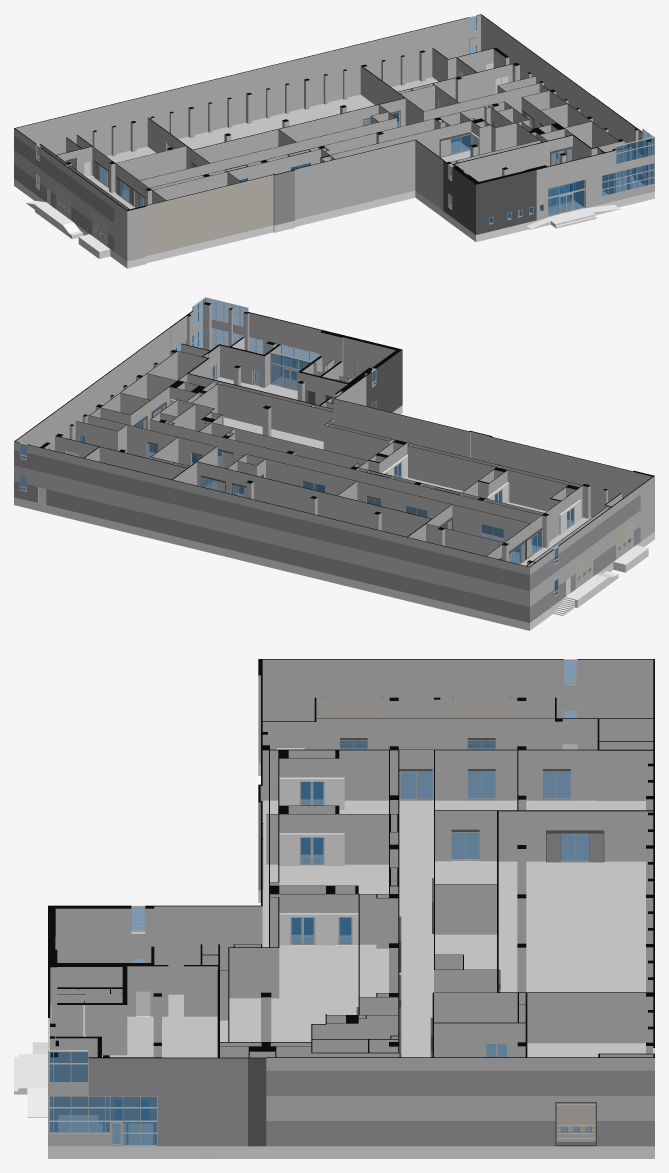
3 views of the same model, one above another, from view 1: azimuth 30°, elevation 25°; view 2: azimuth 150°, elevation 25°; view 3: azimuth 270°, elevation 25° (orthographic). The views are drawn at different scales.
Visible parts, largest first — view 1: V본동_1F_벽, V본동_1~2F_슬라브, V본동_1F_바닥, V본동_1F_창문, V본동_1F_화물받침대, V본동_1F_장비반입구, V본동_1~2F_슬라브창문, V본동_1F_외부장비반입구, V본동_1F_슬라이딩도어, V본동_1F_유리문; view 2: V본동_1F_벽, V본동_1~2F_슬라브, V본동_1F_창문, V본동_1F_바닥, V본동_1F_화물받침대, V본동_1~2F_슬라브창문, V본동_1F_에어샤워도어, V본동_1F_장비반입구, V본동_1F_외부장비반입구, V본동_1F_슬라이딩도어, V본동_1F_유리문; view 3: V본동_1F_벽, V본동_1F_바닥, V본동_1~2F_슬라브, V본동_1F_에어샤워도어, V본동_1F_장비반입구, V본동_1F_창문, V본동_1F_외부장비반입구, V본동_1~2F_슬라브창문, V본동_1F_화물받침대, V본동_1F_유리문, V본동_1F_슬라이딩도어.
Part boxes in pixels (x1=…): V본동_1F_벽: x1=14, y1=36, x2=654, y2=268; V본동_1~2F_슬라브: x1=14, y1=14, x2=654, y2=232; V본동_1F_바닥: x1=37, y1=77, x2=644, y2=238; V본동_1F_창문: x1=36, y1=45, x2=654, y2=224; V본동_1F_화물받침대: x1=26, y1=201, x2=619, y2=258; V본동_1F_장비반입구: x1=94, y1=109, x2=572, y2=205; V본동_1~2F_슬라브창문: x1=36, y1=15, x2=654, y2=181; V본동_1F_외부장비반입구: x1=55, y1=53, x2=505, y2=246; V본동_1F_슬라이딩도어: x1=133, y1=110, x2=471, y2=207; V본동_1F_유리문: x1=437, y1=98, x2=633, y2=214; V본동_1F_벽: x1=14, y1=328, x2=654, y2=630; V본동_1~2F_슬라브: x1=14, y1=302, x2=654, y2=591; V본동_1F_창문: x1=19, y1=327, x2=558, y2=596; V본동_1F_바닥: x1=24, y1=366, x2=625, y2=579; V본동_1F_화물받침대: x1=282, y1=370, x2=648, y2=615; V본동_1~2F_슬라브창문: x1=19, y1=297, x2=558, y2=564; V본동_1F_에어샤워도어: x1=170, y1=399, x2=581, y2=534; V본동_1F_장비반입구: x1=133, y1=402, x2=557, y2=564; V본동_1F_외부장비반입구: x1=48, y1=448, x2=633, y2=588; V본동_1F_슬라이딩도어: x1=198, y1=448, x2=543, y2=559; V본동_1F_유리문: x1=78, y1=360, x2=308, y2=477; V본동_1F_벽: x1=48, y1=697, x2=654, y2=1158; V본동_1F_바닥: x1=58, y1=748, x2=645, y2=1144; V본동_1~2F_슬라브: x1=48, y1=659, x2=654, y2=1095; V본동_1F_에어샤워도어: x1=279, y1=777, x2=358, y2=945; V본동_1F_장비반입구: x1=340, y1=738, x2=604, y2=1057; V본동_1F_창문: x1=48, y1=710, x2=577, y2=1146; V본동_1F_외부장비반입구: x1=326, y1=703, x2=595, y2=1141; V본동_1~2F_슬라브창문: x1=48, y1=659, x2=654, y2=1083; V본동_1F_화물받침대: x1=14, y1=1042, x2=47, y2=1117; V본동_1F_유리문: x1=85, y1=1034, x2=508, y2=1146; V본동_1F_슬라이딩도어: x1=356, y1=769, x2=500, y2=1034.
Size of the model in its own units: 69.66 by 8.55 by 46.13.
